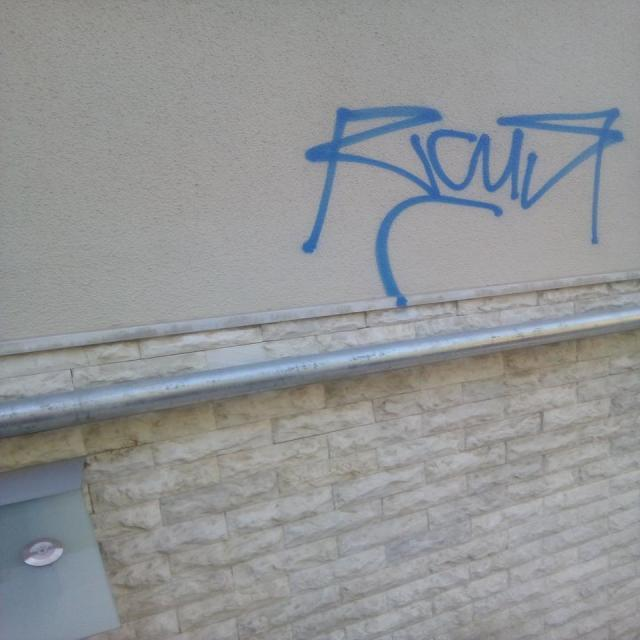nonspitting: (304, 104, 626, 305)
